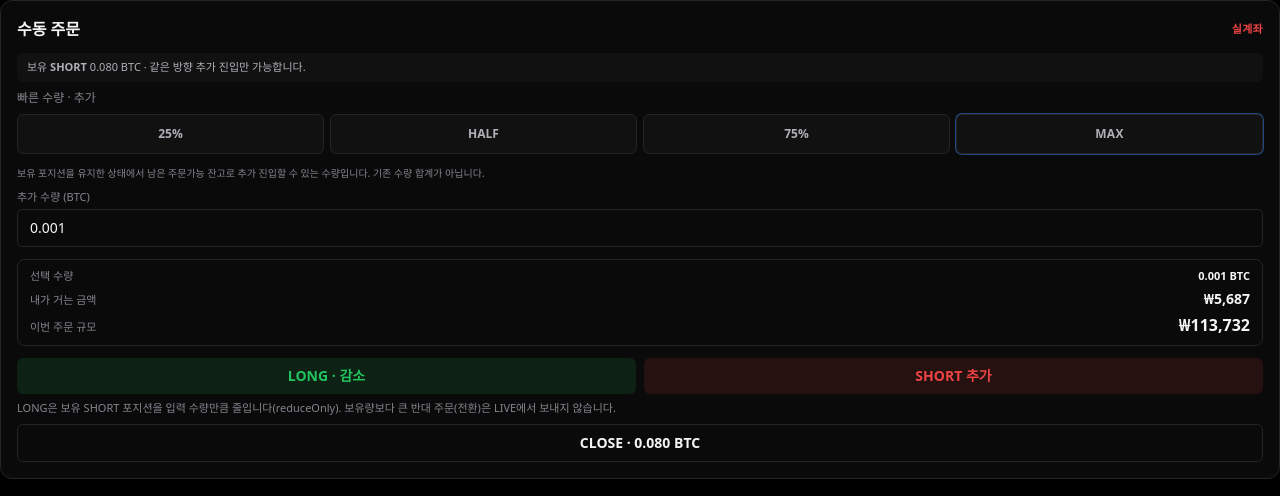
Test case: adding to a position already held › enables the held side to add and the opposite side to reduce, never past the position
Check: the button with test id "live-short" is enabled, box [644,358,1263,394]
Check: the button with test id "live-short" reads "SHORT 추가", box [644,358,1263,394]
# A reduce larger than the held 0.080 would be a flip: that button turns off.
Replace the text in the field with test id "live-qty-input" with "0.200" at (640, 228), box [17,209,1263,247]
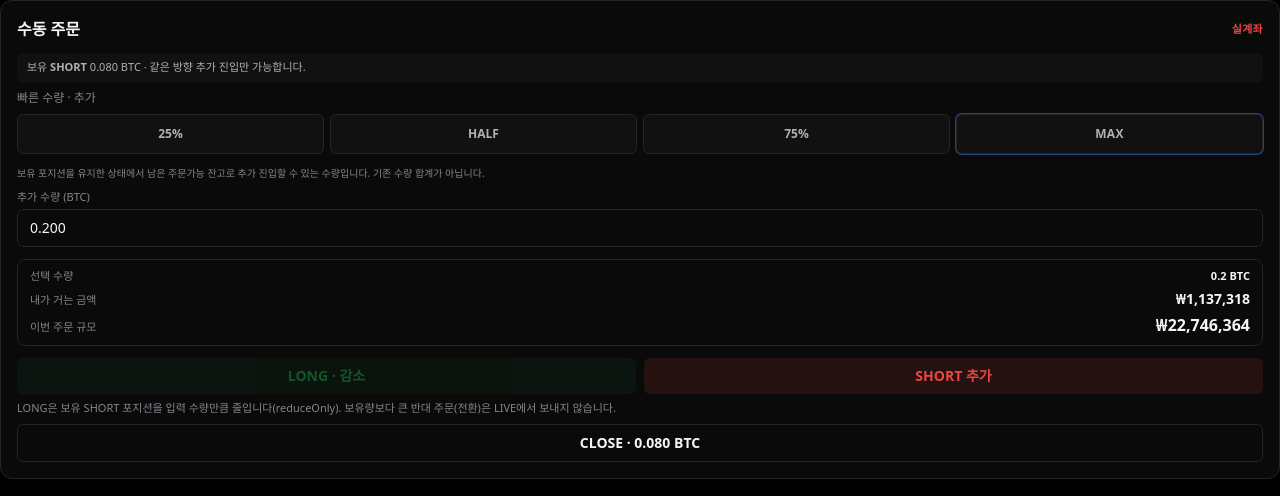
Check: the button with test id "live-short" is enabled, box [644,358,1263,394]
Check: the button with test id "live-long" is disabled, box [17,358,636,394]
